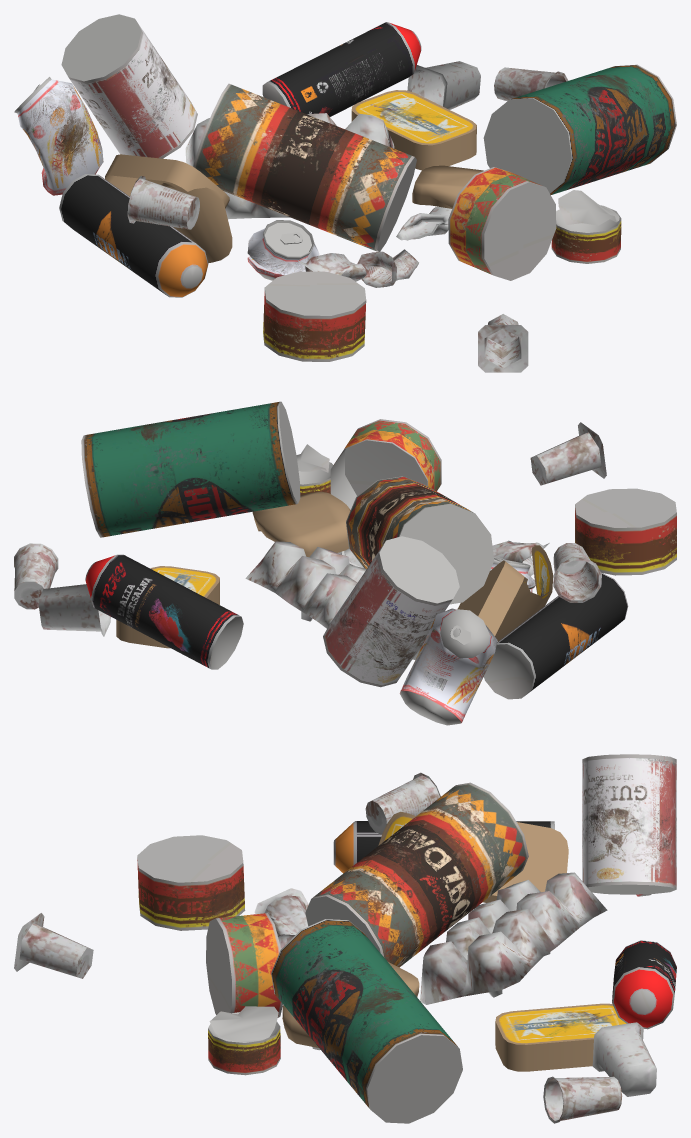
Rendered from SM_TrashSet_02_D.fbx.
The picture shows the model from 3 angles, top to bottom: view 1: azimuth 30°, elevation 25°; view 2: azimuth 150°, elevation 25°; view 3: azimuth 270°, elevation 25°; orthographic projection. The views are drawn at different scales.
Visible parts, largest first — view 1: SM_TrashSet_02_D; view 2: SM_TrashSet_02_D; view 3: SM_TrashSet_02_D.
Boxes of the visible parts, bbox=[...] form: SM_TrashSet_02_D: bbox=[14, 14, 676, 372]; SM_TrashSet_02_D: bbox=[14, 401, 676, 725]; SM_TrashSet_02_D: bbox=[14, 754, 676, 1123].
Bounding box in the file's own units: 65.07 × 67.45 × 19.24.
Materials: 2 (2 with a texture image).
